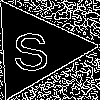S: (10, 23, 51, 72)
